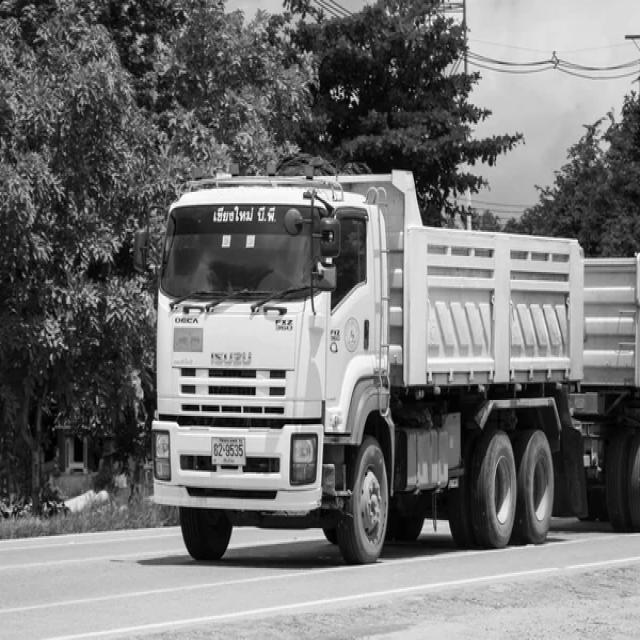Truck: (152, 171, 586, 564)
